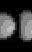slime: (17, 10, 32, 42), (0, 11, 16, 40)
